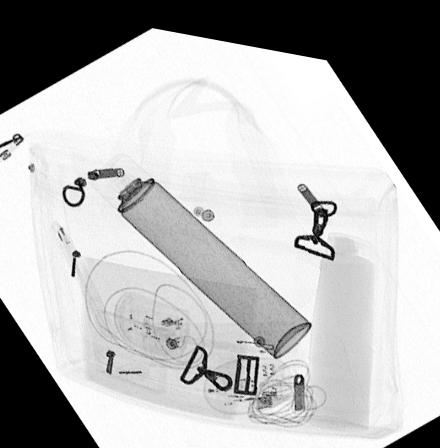Sprayer: (84, 146, 310, 350)
